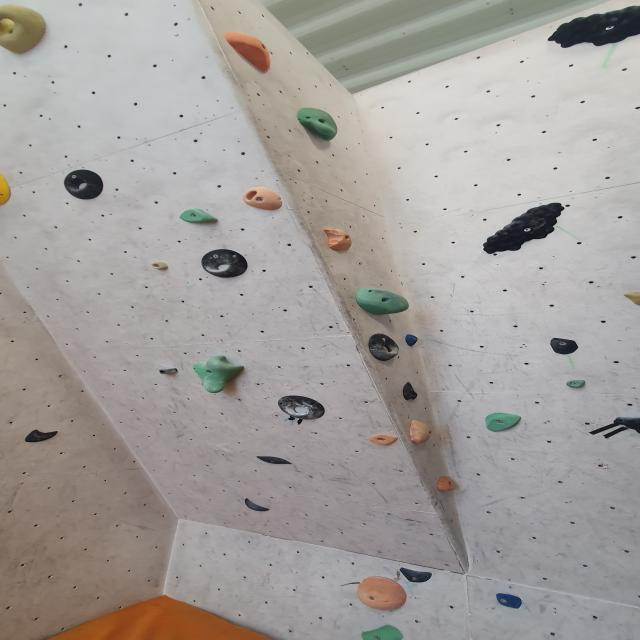Crimp: (483, 410, 527, 434), (367, 432, 400, 448), (436, 476, 458, 492), (402, 333, 420, 346)
Jug: (480, 198, 569, 257), (539, 1, 640, 50), (0, 1, 50, 58), (184, 354, 249, 395), (292, 105, 343, 144)
Pinch: (222, 30, 278, 75), (319, 224, 362, 256), (404, 418, 439, 448), (174, 207, 224, 226)
Pocket: (54, 168, 116, 202), (196, 248, 258, 279), (272, 394, 328, 424), (239, 186, 293, 214), (364, 332, 405, 364)
Sloper: (355, 576, 409, 614), (352, 286, 410, 316)
